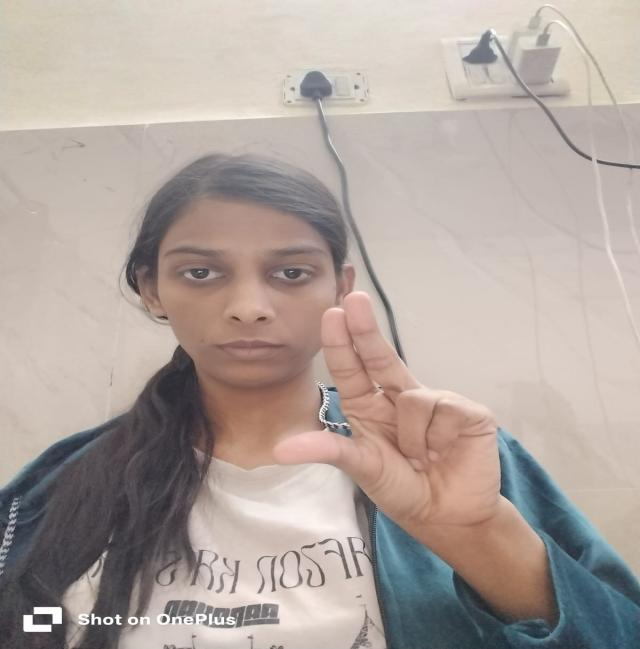No: (261, 287, 528, 547)
